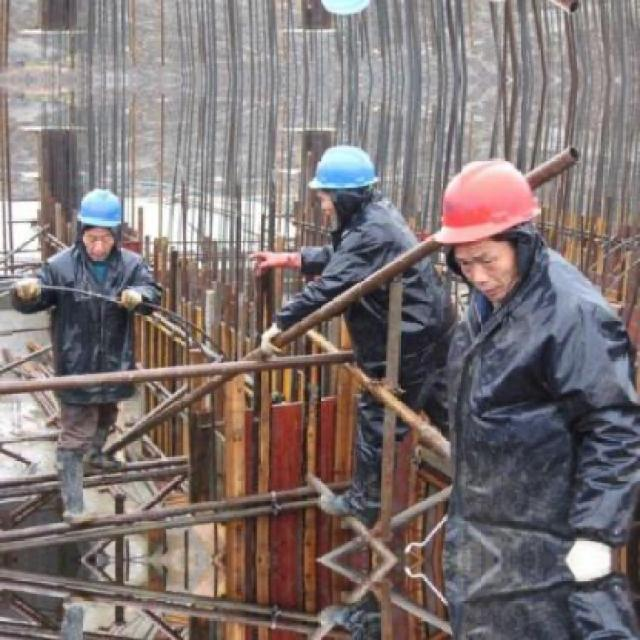helmet: (430, 147, 544, 296), (308, 140, 383, 223), (76, 186, 126, 260), (306, 0, 383, 22)
